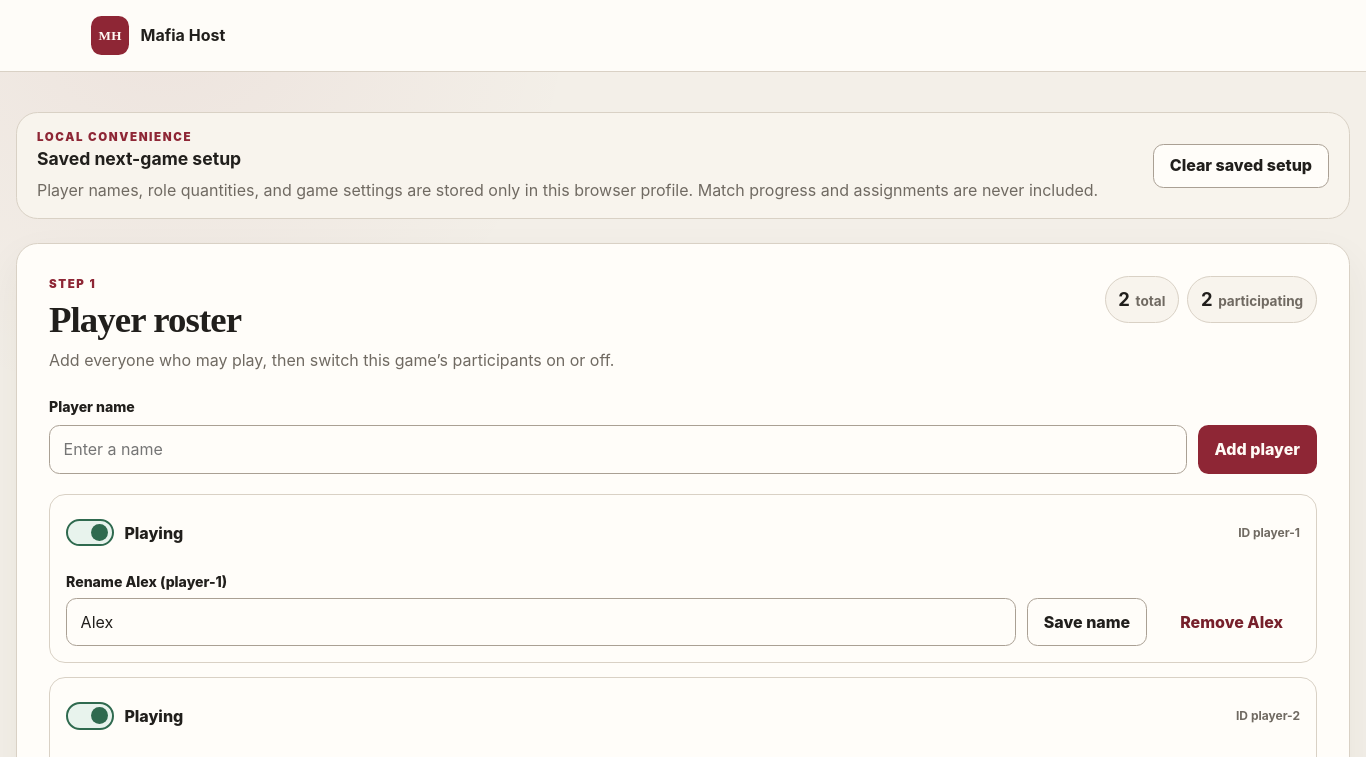
Test: Phase 7F.1 next-game saved setup › prefills names, roles, and settings and clears only future setup without wiping visible fields
The width and height of the screenshot is (1366, 757).
Check: the field showing "Alex" is shown, box [66,598,1016,646]
Click the button "Clear saved setup": [1241, 166] box [1153,144,1329,188]
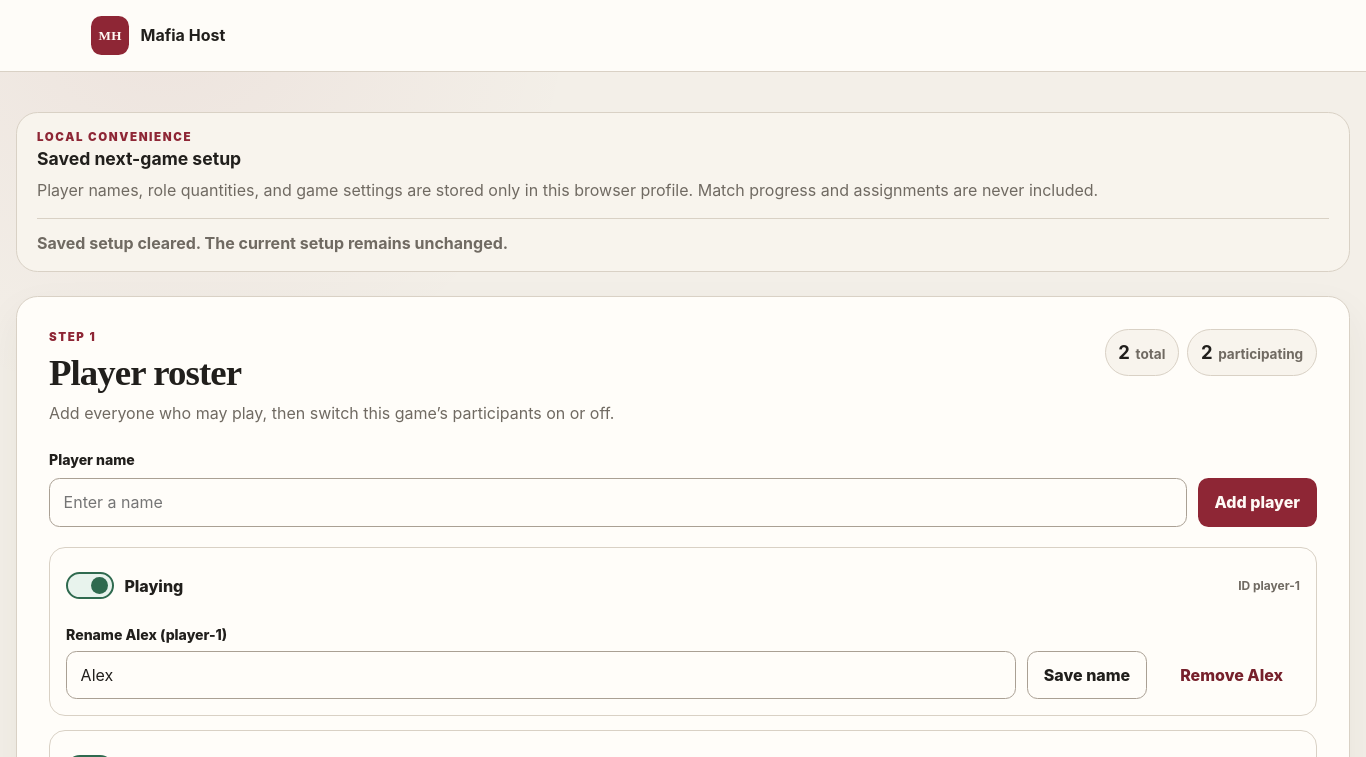
Check: the field showing "Alex" is shown, box [66,651,1016,700]
Check: the text "Saved setup cleared. The current setup remains unchanged." is shown, box [37,218,1329,255]
Check: the button "Clear saved setup" is gone
